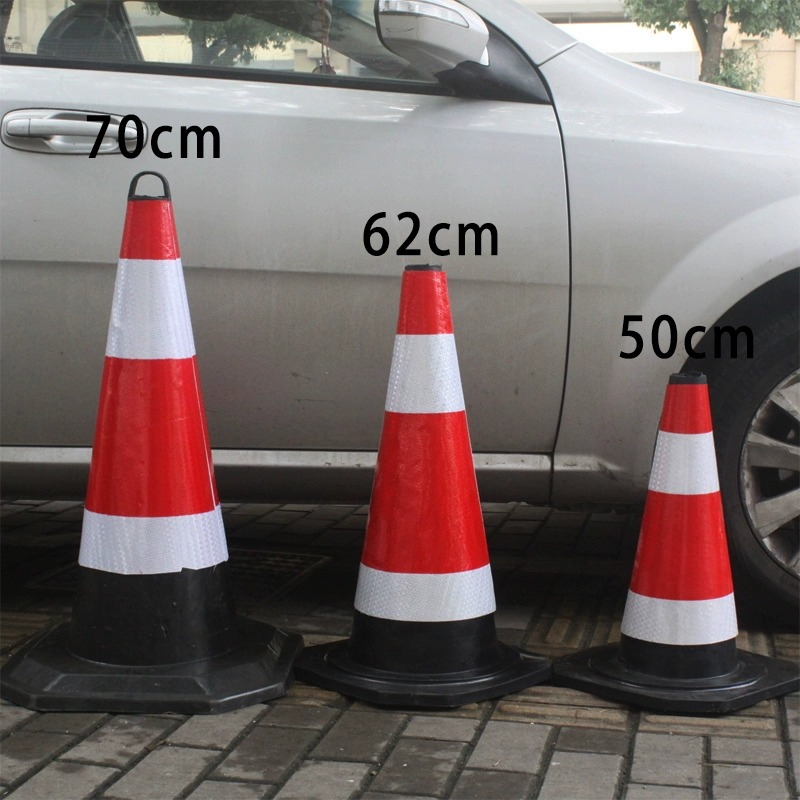traffic_cone: (8, 170, 312, 718), (296, 260, 551, 712), (545, 370, 799, 718)
